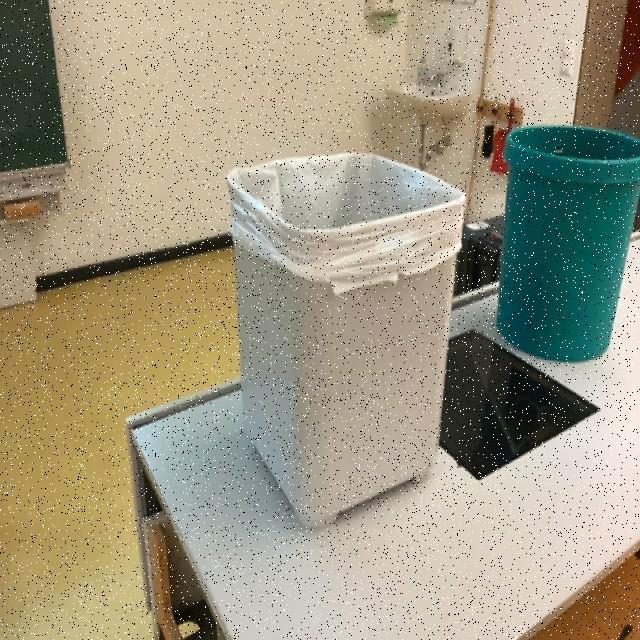garbage container: (195, 138, 479, 540), (495, 96, 640, 382)
